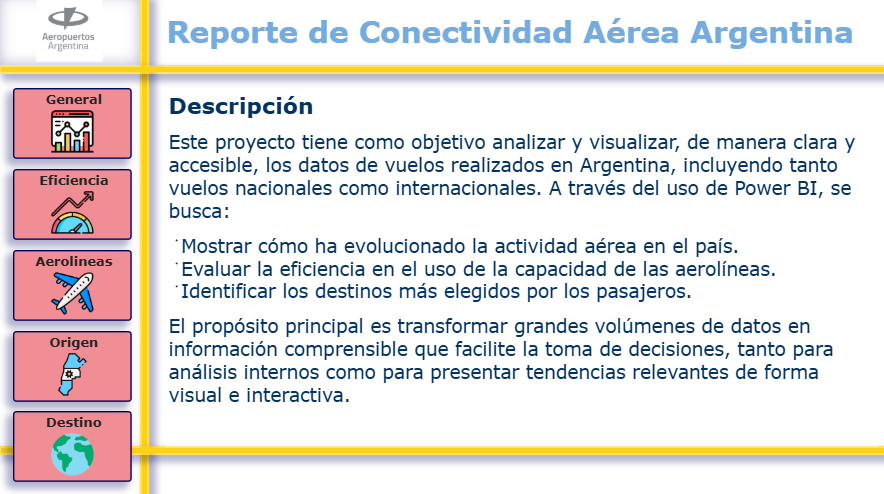

The page's visual inventory and layout, read from the dashboard file:
{"tool":"powerbi","page":{"name":"Inicio","canvas":[1280,720],"ordinal":0},"visuals":[{"type":"shape","box":[16.8,55.4,677,653.4],"z":0},{"type":"image","box":[710.6,55.4,542.6,653.4],"z":1000},{"type":"shape","box":[43.7,441.8,631.6,250.3],"z":2000},{"type":"textbox","box":[43.7,68.9,631.6,157.9],"z":3000},{"type":"textbox","box":[43.7,255.3,618.2,169.7],"z":4000},{"type":"shape","box":[43.7,211.7,618.2,28.6],"z":5000},{"type":"image","box":[95.7,477.1,141.1,132.7],"z":6000},{"type":"image","box":[297.3,477.1,141.1,132.7],"z":7000},{"type":"image","box":[498.9,477.1,141.1,132.7],"z":8000},{"type":"textbox","box":[95.7,621.5,141.1,42],"z":9000},{"type":"textbox","box":[297.3,621.5,141.1,42],"z":10000},{"type":"textbox","box":[498.9,621.5,141.1,42],"z":11000}]}

Visuals, with their boxes in screenshot pixels (x1, y1, x2, y2), scaled from the page's 1280x720 canvas onto the 884x494 screenshot:
shape: crop(12, 38, 479, 486)
image: crop(491, 38, 865, 486)
shape: crop(30, 303, 466, 475)
textbox: crop(30, 47, 466, 156)
textbox: crop(30, 175, 457, 292)
shape: crop(30, 145, 457, 165)
image: crop(66, 327, 164, 418)
image: crop(205, 327, 303, 418)
image: crop(345, 327, 442, 418)
textbox: crop(66, 426, 164, 455)
textbox: crop(205, 426, 303, 455)
textbox: crop(345, 426, 442, 455)
